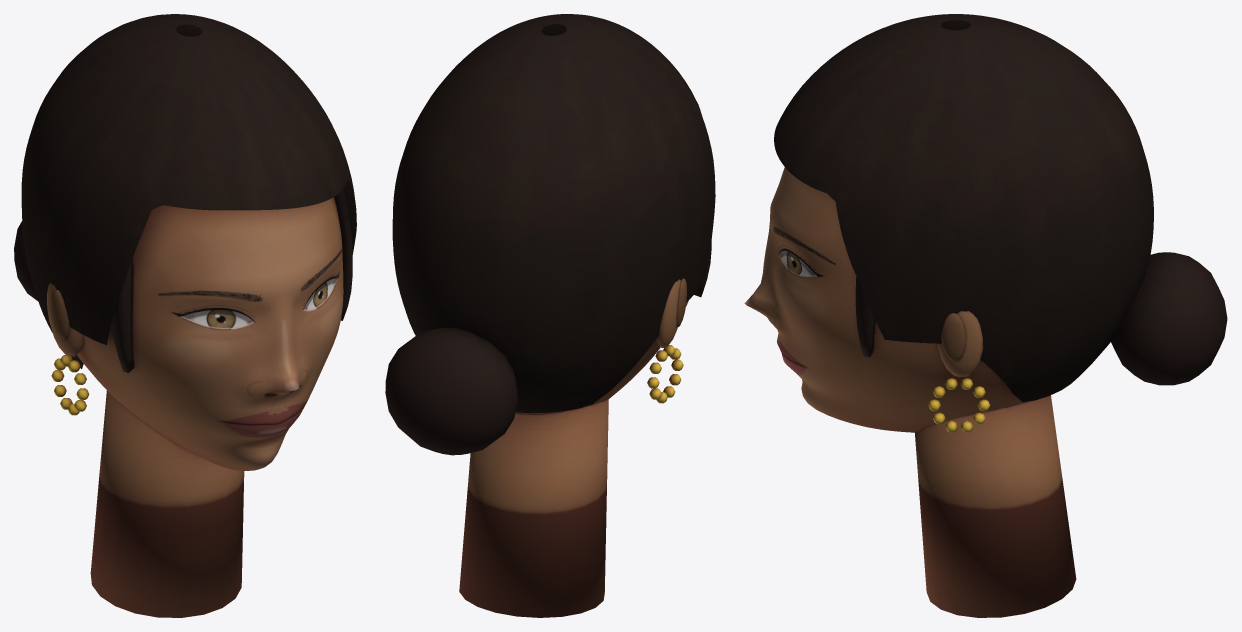
File: cabeza-sheva-f.glb
3 renders of one model, left to right at view 1: azimuth 30°, elevation 25°; view 2: azimuth 150°, elevation 25°; view 3: azimuth 270°, elevation 25°, orthographic. The views are drawn at different scales.
Parts seen in each view (by area): view 1: h_Head; view 2: h_Head; view 3: h_Head.
Boxes of the visible parts, x1=… form: h_Head: x1=14, y1=14, x2=356, y2=617; h_Head: x1=385, y1=14, x2=715, y2=617; h_Head: x1=744, y1=14, x2=1227, y2=617.
Size of the model in its own units: 0.1608 by 0.3247 by 0.2507.
1 material, 1 textured.
